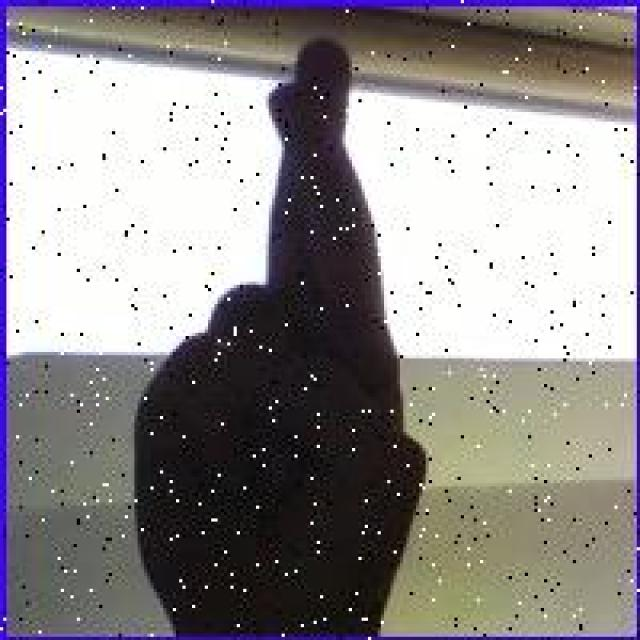R: (126, 35, 428, 630)
